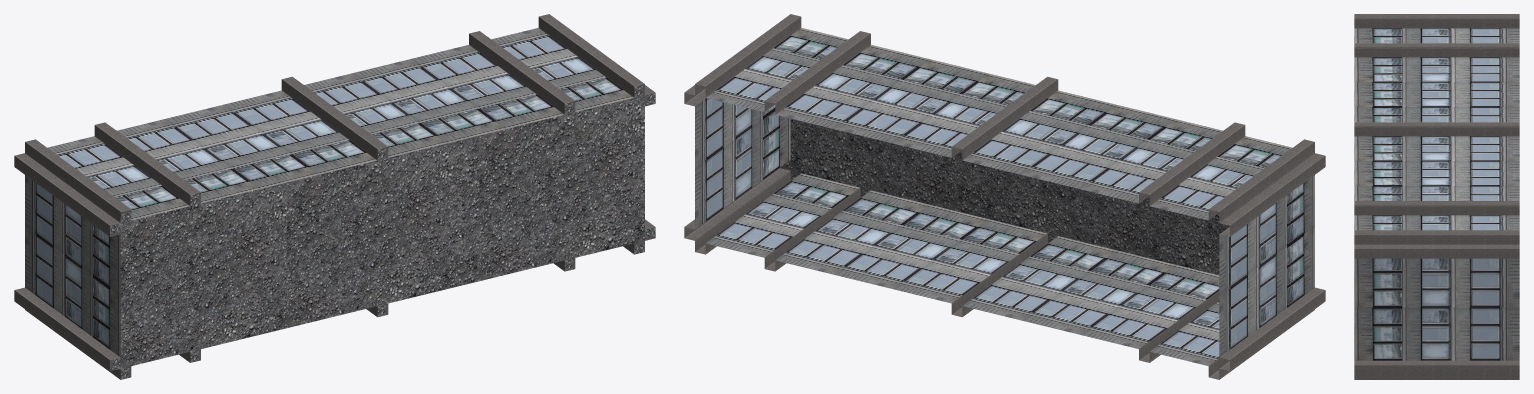
Rendered from mp_nuketown_2020_vista_bldg_01_LOD0.obj.
3 renders of one model, left to right at view 1: azimuth 30°, elevation 25°; view 2: azimuth 150°, elevation 25°; view 3: azimuth 270°, elevation 25°, orthographic. The views are drawn at different scales.
Visible parts, largest first — view 1: mp_m_vista_bldgs_01; view 2: mp_m_vista_bldgs_01; view 3: mp_m_vista_bldgs_01.
Part boxes in pixels (box(x1,y1,x2,y2)): mp_m_vista_bldgs_01: box(14, 14, 655, 379); mp_m_vista_bldgs_01: box(684, 14, 1325, 379); mp_m_vista_bldgs_01: box(1354, 14, 1519, 379).
Bounding box in the file's own units: 4145 × 1219 × 1260.
Materials: 1 (1 with a texture image).
